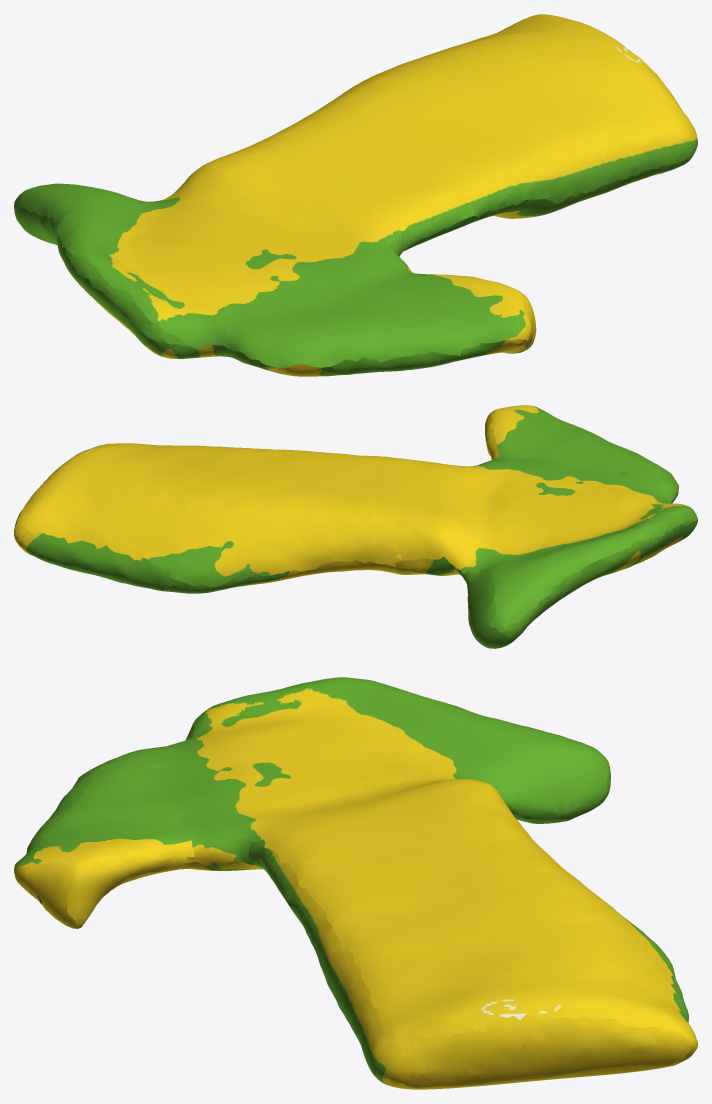
Rendered from speedslide.glb.
The picture shows the model from 3 angles, top to bottom: view 1: azimuth 30°, elevation 25°; view 2: azimuth 150°, elevation 25°; view 3: azimuth 270°, elevation 25°; orthographic projection. The views are drawn at different scales.
Parts seen in each view (by area): view 1: geometry_0; view 2: geometry_0; view 3: geometry_0.
Boxes of the visible parts, bbox=[...] form: geometry_0: bbox=[14, 14, 697, 376]; geometry_0: bbox=[14, 405, 697, 648]; geometry_0: bbox=[14, 677, 697, 1089].
Bounding box in the file's own units: 0.9279 × 0.1218 × 0.7866.
Materials: 1 (1 with a texture image).
